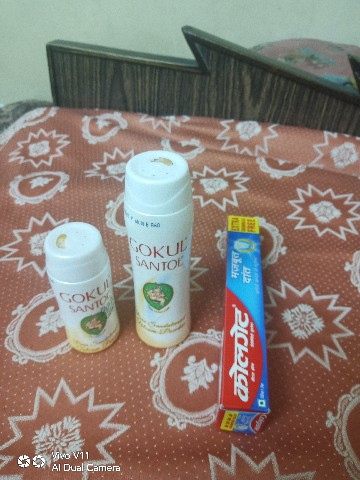colgatetoothpaste big: (213, 207, 279, 431)
gokulsantol big: (115, 149, 210, 362)
gokulsantol small: (33, 222, 126, 365)
